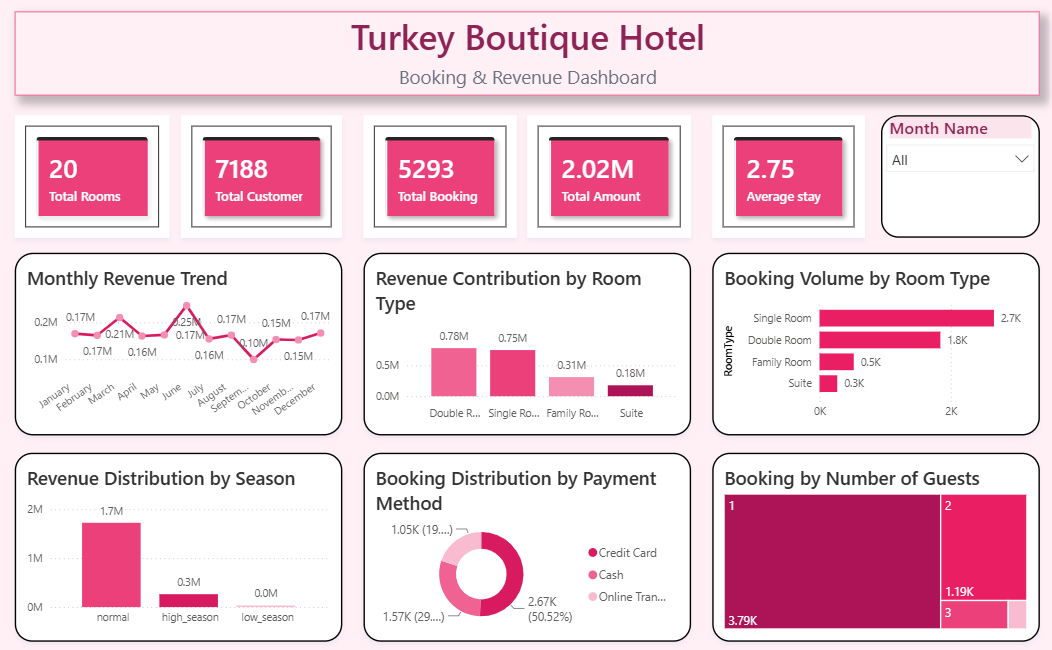

The page's visual inventory and layout, read from the dashboard file:
{"tool":"powerbi","page":{"name":"Page 1","canvas":[1210,760],"ordinal":0},"visuals":[{"type":"cardVisual","fields":{"Data":["customers.Total Customer"]},"box":[211.4,132.9,184.3,140],"z":0},{"type":"cardVisual","fields":{"Data":["orders.Total Amount"]},"box":[607.1,132.9,187.1,140],"z":1000},{"type":"cardVisual","fields":{"Data":["rooms.Total Rooms Available"]},"box":[21.4,132.9,177.1,140],"z":2000},{"type":"cardVisual","fields":{"Data":["orders.Average stay Duration"]},"box":[818.6,132.9,174.3,140],"z":3000},{"type":"cardVisual","fields":{"Data":["orders.Total Booking"]},"box":[420,132.9,175.7,140],"z":4000},{"type":"columnChart","title":"Revenue Contribution by Room Type","fields":{"Y":["orders.Total Amount"],"Category":["rooms.RoomType"]},"box":[420,290,374.3,208.6],"z":5000},{"type":"lineChart","title":"Monthly Revenue Trend","fields":{"Category":["orders.CheckInDate.Variation.Date Hierarchy.Month"],"Y":["orders.Total Amount"]},"box":[21.4,290,374.3,208.6],"z":6000},{"type":"donutChart","title":"Booking Distribution by Payment Method","fields":{"Category":["orders.PaymentMethod"],"Y":["CountNonNull(orders.OrderID)"]},"box":[420,518,374,216],"z":7000},{"type":"treemap","title":"Booking by Number of Guests","fields":{"Group":["orders.CustomerCount"],"Values":["CountNonNull(orders.OrderID)"]},"box":[818,518,374,216],"z":8000},{"type":"clusteredBarChart","title":"Booking Volume by Room Type","fields":{"Category":["rooms.RoomType"],"Y":["CountNonNull(orders.OrderID)"]},"box":[818.6,290,374.3,208.6],"z":9000},{"type":"clusteredColumnChart","title":"Revenue Distribution by Season","fields":{"Category":["orders.SeasonalFactor"],"Y":["orders.Total Amount"]},"box":[22,518,374,216],"z":10000},{"type":"slicer","fields":{"Values":["orders.Month Name"]},"box":[1011.4,132.9,181.4,140],"z":14000},{"type":"textbox","title":"Turkey Boutique Hotel","box":[21.4,14.3,1171.4,95.7],"z":16000}]}

Visuals, with their boxes in screenshot pixels (x1, y1, x2, y2), scaled from the page's 1210x760 canvas onto the 1052x650 screenshot:
cardVisual - customers.Total Customer: (x1=184, y1=114, x2=344, y2=233)
cardVisual - orders.Total Amount: (x1=528, y1=114, x2=690, y2=233)
cardVisual - rooms.Total Rooms Available: (x1=19, y1=114, x2=173, y2=233)
cardVisual - orders.Average stay Duration: (x1=712, y1=114, x2=863, y2=233)
cardVisual - orders.Total Booking: (x1=365, y1=114, x2=518, y2=233)
"Revenue Contribution by Room Type" columnChart: (x1=365, y1=248, x2=691, y2=426)
"Monthly Revenue Trend" lineChart: (x1=19, y1=248, x2=344, y2=426)
"Booking Distribution by Payment Method" donutChart: (x1=365, y1=443, x2=690, y2=628)
"Booking by Number of Guests" treemap: (x1=711, y1=443, x2=1036, y2=628)
"Booking Volume by Room Type" clusteredBarChart: (x1=712, y1=248, x2=1037, y2=426)
"Revenue Distribution by Season" clusteredColumnChart: (x1=19, y1=443, x2=344, y2=628)
slicer - orders.Month Name: (x1=879, y1=114, x2=1037, y2=233)
"Turkey Boutique Hotel" textbox: (x1=19, y1=12, x2=1037, y2=94)
